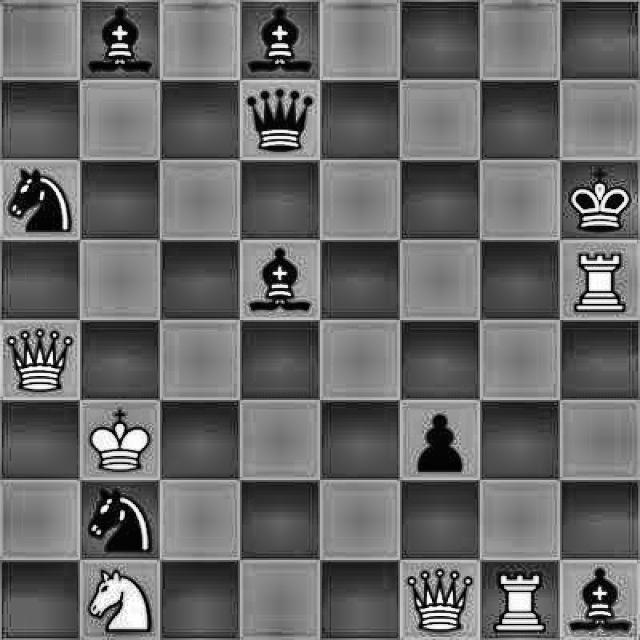Black Knight: (0, 158, 80, 240), (80, 483, 155, 557)
black bishop: (559, 562, 638, 640), (81, 2, 160, 77), (244, 242, 316, 317), (245, 0, 315, 75)
black king: (560, 162, 636, 236)
black pawn: (405, 401, 473, 480)
black queen: (241, 80, 317, 160)
white king: (79, 401, 157, 477)
white queen: (1, 322, 80, 399), (404, 561, 476, 639)
white rook: (564, 240, 640, 316), (486, 565, 556, 638)
whiteknight: (82, 562, 155, 634)
